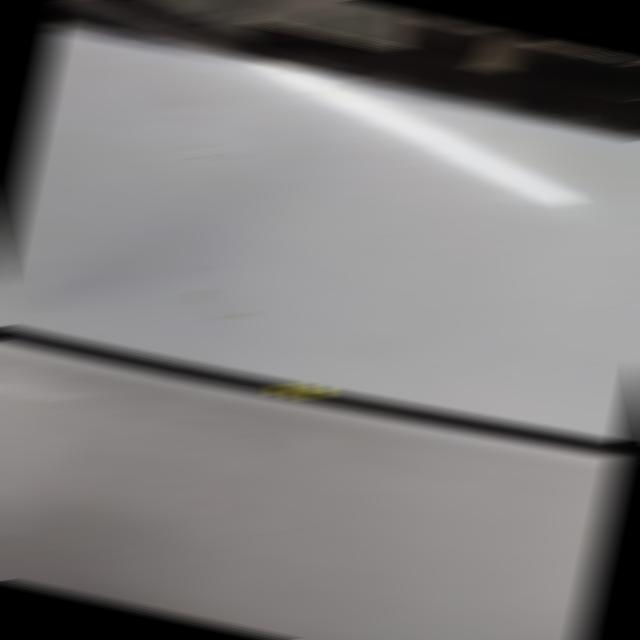yellow: (272, 382, 326, 401)
